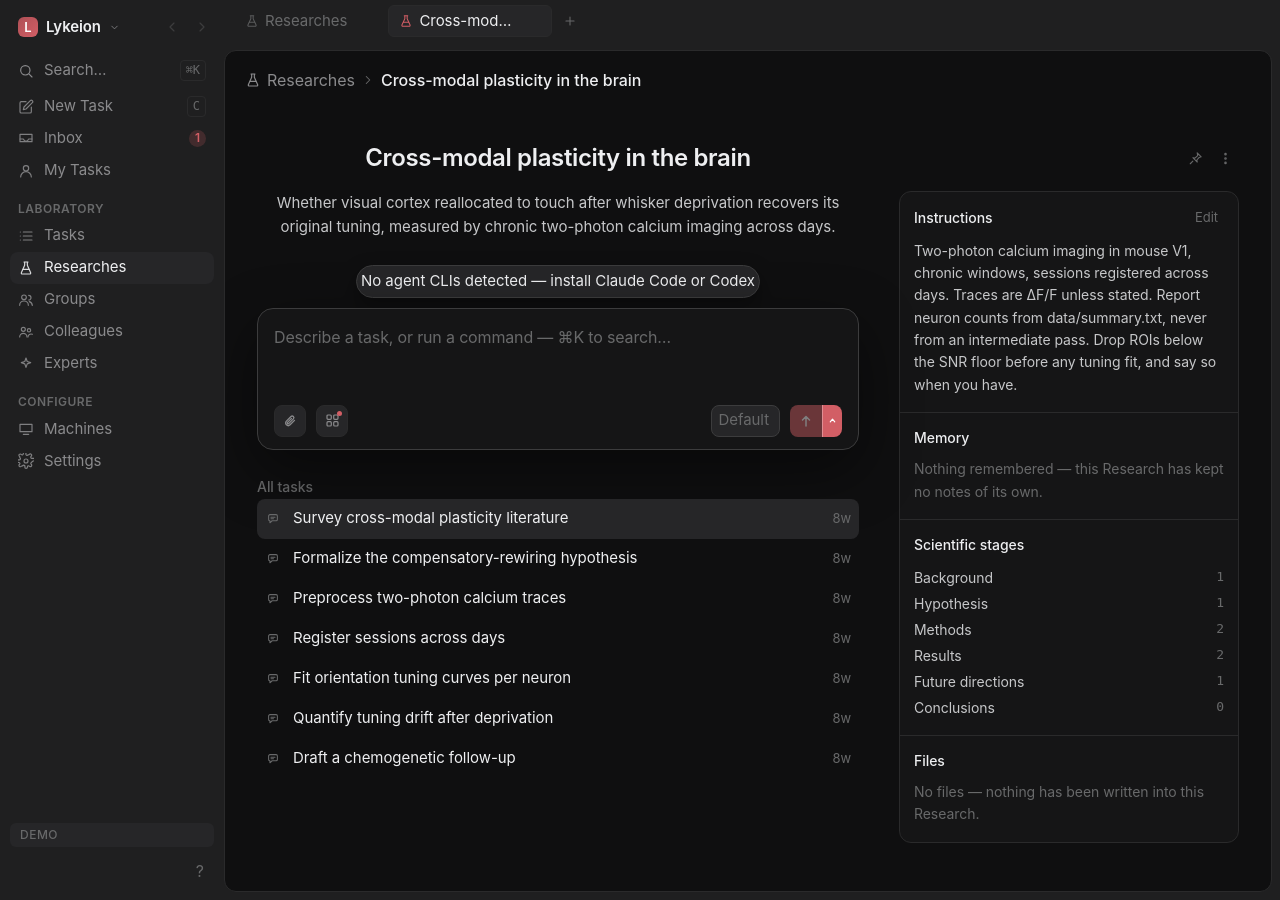
Test: Research → Task hand-off under StrictMode › starts the first prompt exactly once
Step 1. Type "analyze the traces" into the text box named "Message the agent" → {"x": 558, "y": 360}, box [274, 324, 842, 396]
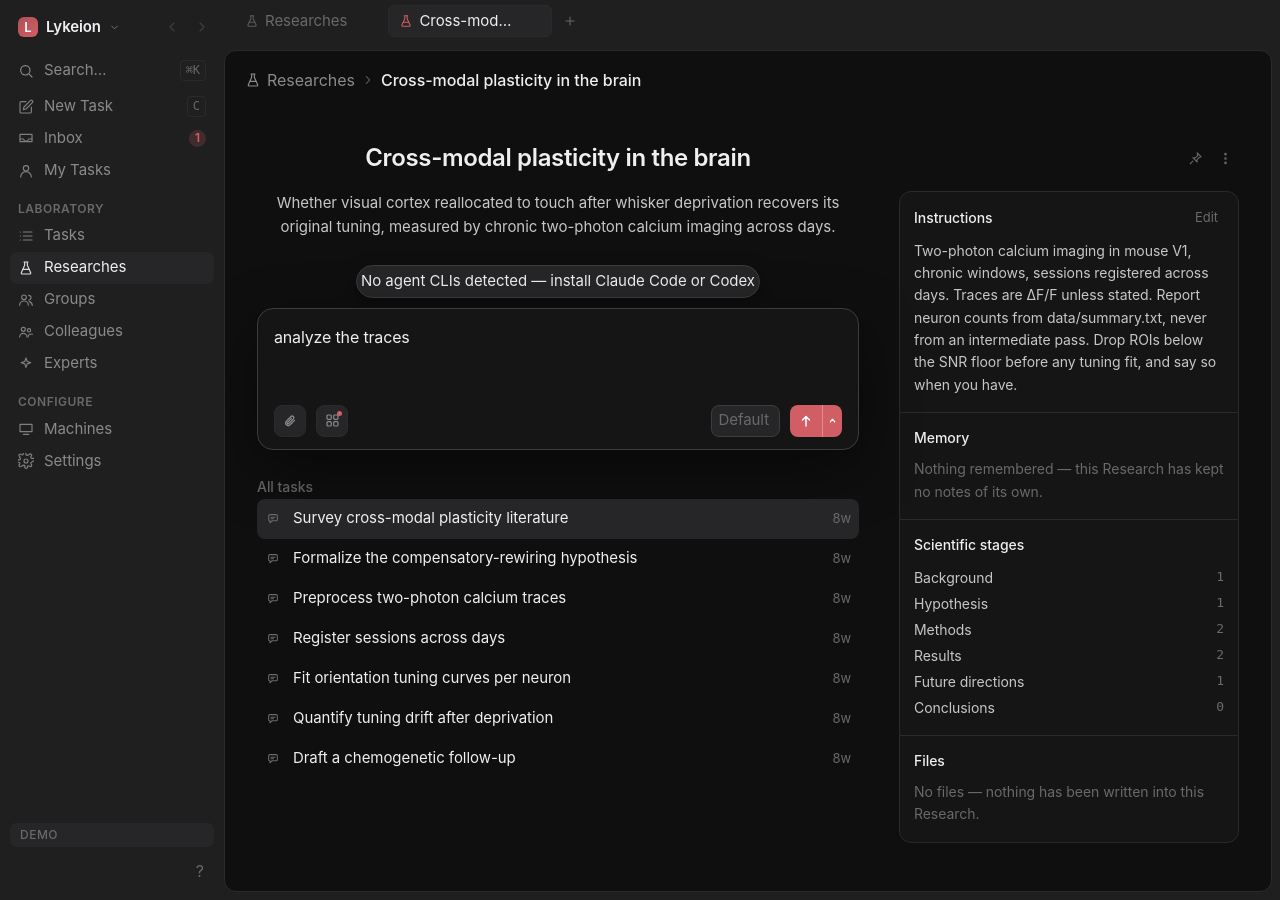
Step 2. Click the button named "Send" → {"x": 806, "y": 420}, box [790, 404, 822, 436]
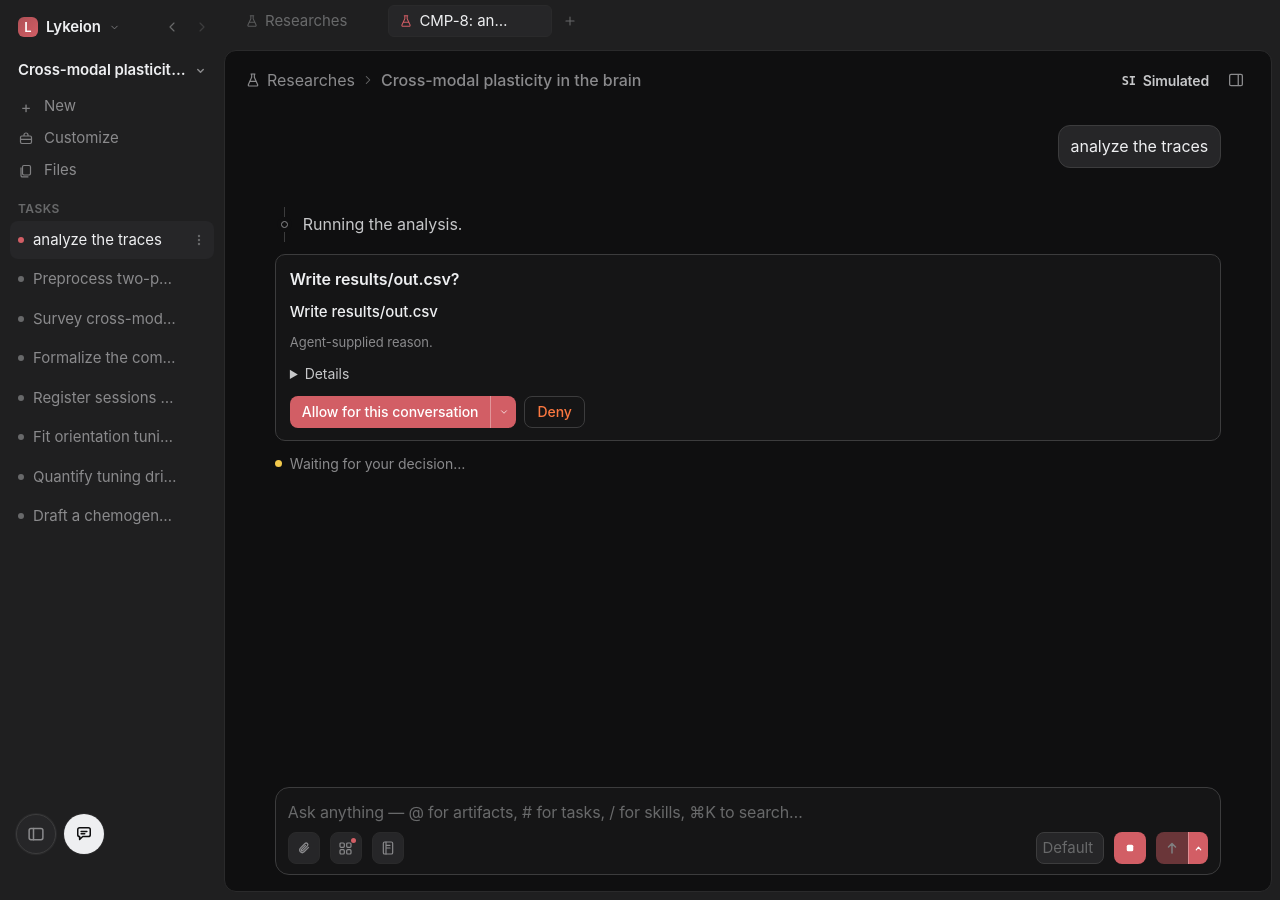
expect the element with test id "task-surface" is shown: met
expect the button "Allow for this conversation" is shown: met, box [290, 396, 490, 428]
